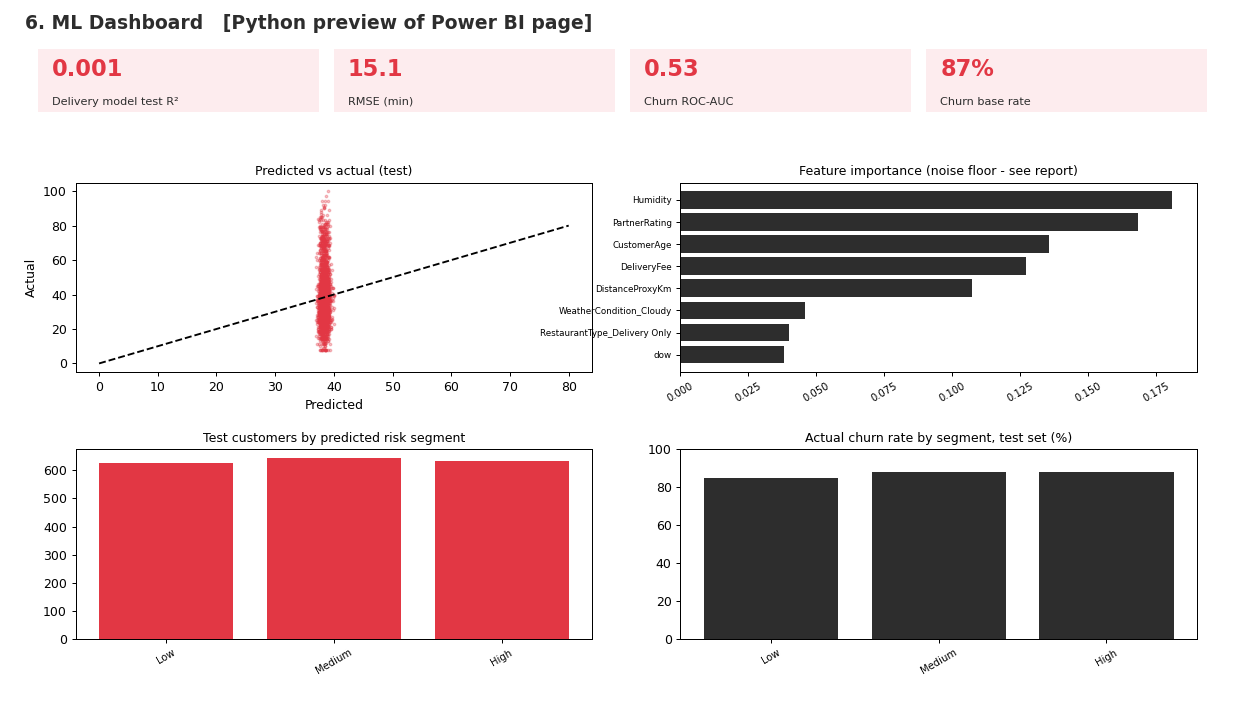

This screenshot's page, from the dashboard's own definition file:
{"tool":"powerbi","page":{"name":"6. ML Dashboard","canvas":[1280,720],"ordinal":5},"visuals":[{"type":"textbox","box":[20,8,1240,38],"z":1000},{"type":"textbox","box":[20,46,1240,44],"z":2000},{"type":"card","fields":{"Values":["fact_orders.Delivery R2"]},"box":[20,92,302.5,80],"z":3000},{"type":"card","fields":{"Values":["fact_orders.Delivery RMSE"]},"box":[332.5,92,302.5,80],"z":4000},{"type":"card","fields":{"Values":["fact_orders.Delivery MAE"]},"box":[645,92,302.5,80],"z":5000},{"type":"card","fields":{"Values":["fact_orders.Actual Churn % (test)"]},"box":[957.5,92,302.5,80],"z":6000},{"type":"scatterChart","title":"Delivery time: predicted vs actual (test set)","fields":{"Category":["ml_delivery_predictions.OrderID"],"X":["fact_orders.Avg Predicted"],"Y":["fact_orders.Avg Actual"]},"box":[20,185,610,290],"z":7000},{"type":"clusteredBarChart","title":"Delivery model: permutation importance (noise floor)","fields":{"Category":["ml_delivery_feature_importance.feature"],"Y":["fact_orders.Delivery Importance"]},"box":[650,185,610,290],"z":8000},{"type":"clusteredColumnChart","title":"Test customers by risk segment","fields":{"Category":["ml_churn_scores.RiskSegment"],"Y":["fact_orders.Test Customers"]},"box":[20,490,300,210],"z":9000},{"type":"clusteredColumnChart","title":"Actual churn % by segment (test)","fields":{"Category":["ml_churn_scores.RiskSegment"],"Y":["fact_orders.Actual Churn % (test)"]},"box":[330,490,300,210],"z":10000},{"type":"clusteredBarChart","title":"Churn model: top drivers (AUC drop)","fields":{"Category":["ml_churn_feature_importance.feature"],"Y":["fact_orders.Churn Importance"]},"box":[650,490,610,210],"z":11000}]}

Visuals, with their boxes in screenshot pixels (x1, y1, x2, y2), scaled from the page's 1280x720 canvas onto the 1260x702 screenshot:
textbox: (20,8,1240,45)
textbox: (20,45,1240,88)
card - fact_orders.Delivery R2: (20,90,317,168)
card - fact_orders.Delivery RMSE: (327,90,625,168)
card - fact_orders.Delivery MAE: (635,90,933,168)
card - fact_orders.Actual Churn % (test): (943,90,1240,168)
"Delivery time: predicted vs actual (test set)" scatterChart: (20,180,620,463)
"Delivery model: permutation importance (noise floor)" clusteredBarChart: (640,180,1240,463)
"Test customers by risk segment" clusteredColumnChart: (20,478,315,682)
"Actual churn % by segment (test)" clusteredColumnChart: (325,478,620,682)
"Churn model: top drivers (AUC drop)" clusteredBarChart: (640,478,1240,682)
